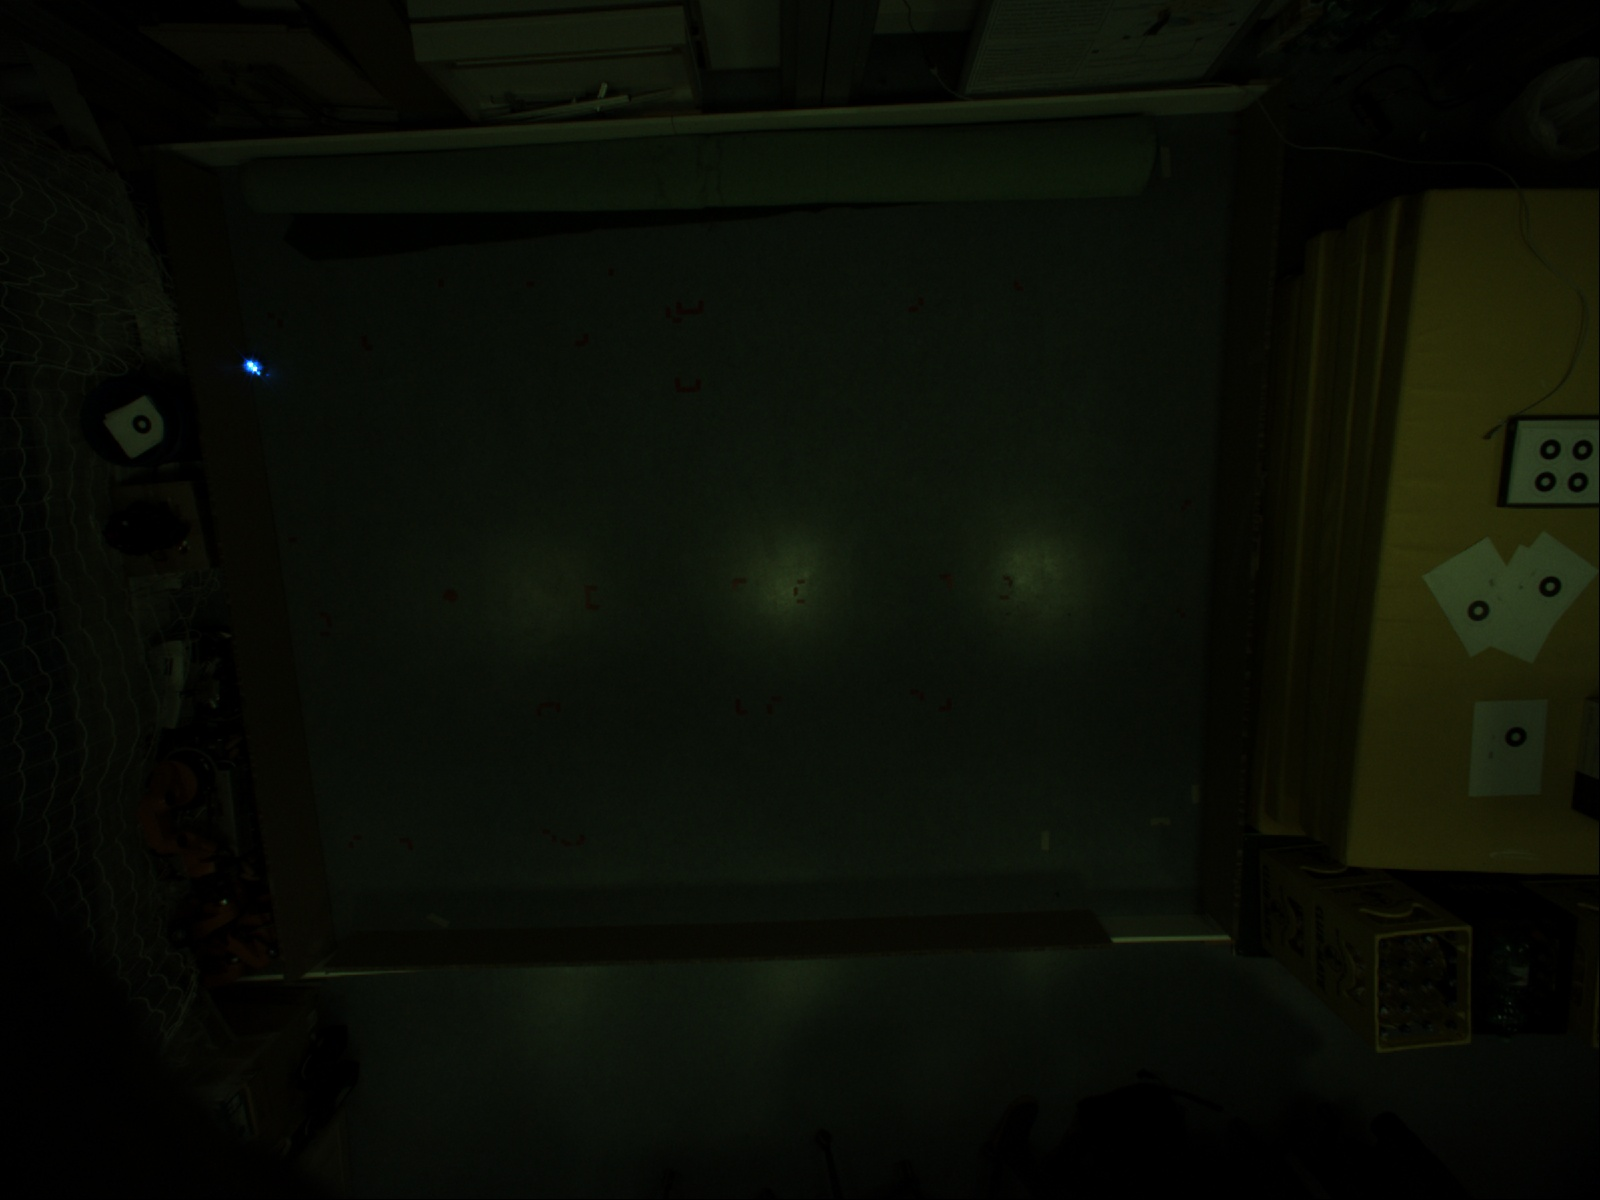sphero: (238, 353, 266, 382)
